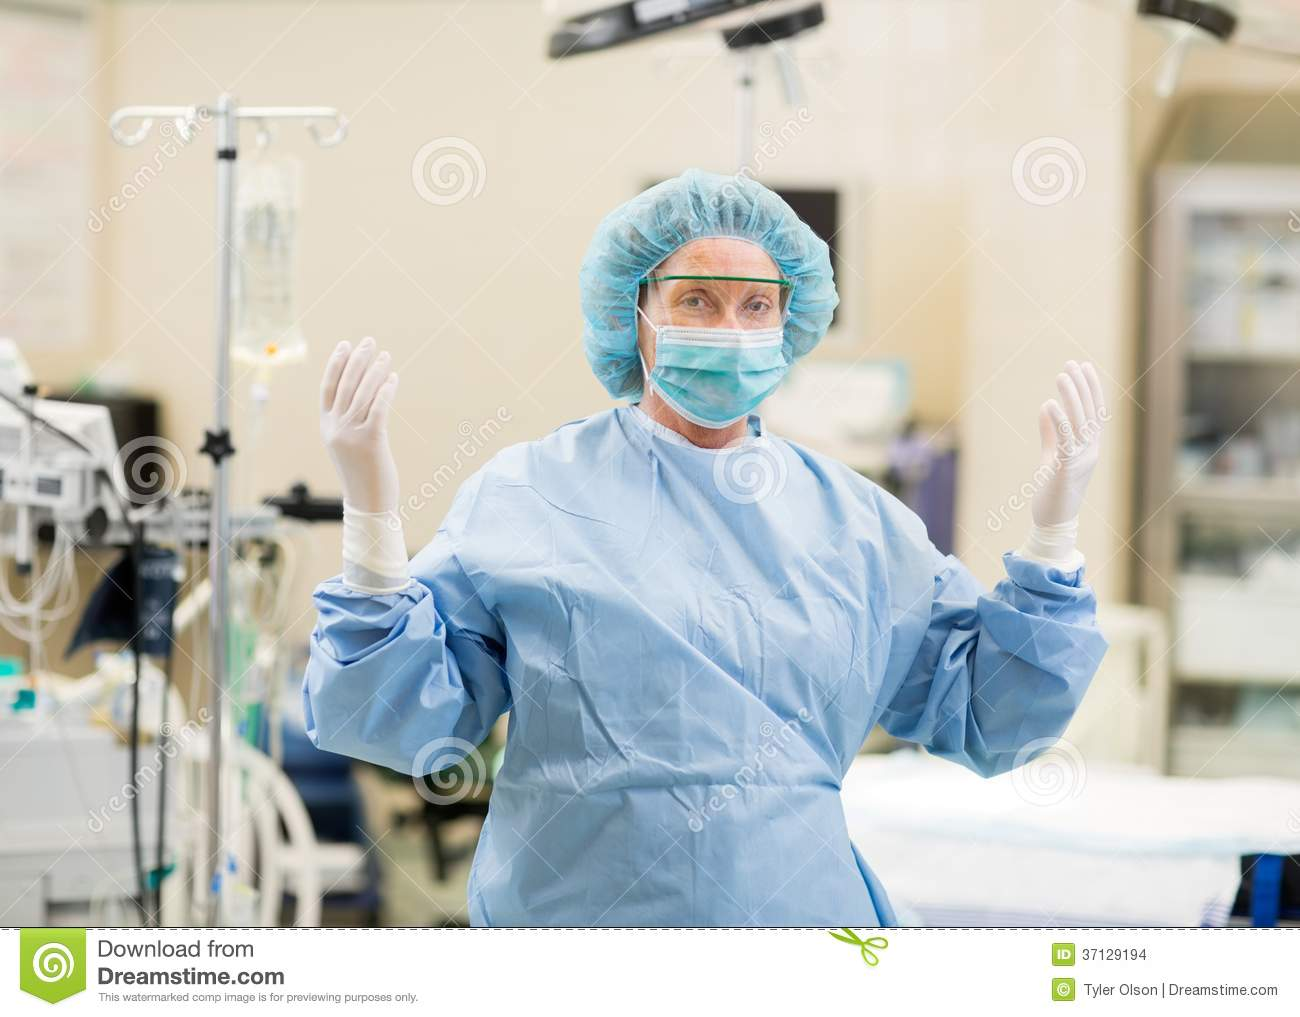mask: (644, 326, 794, 428)
